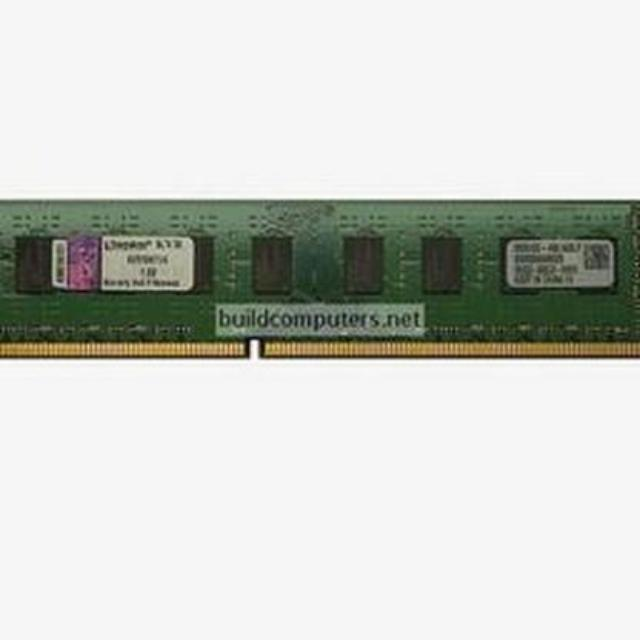RAM: (0, 194, 640, 363)
